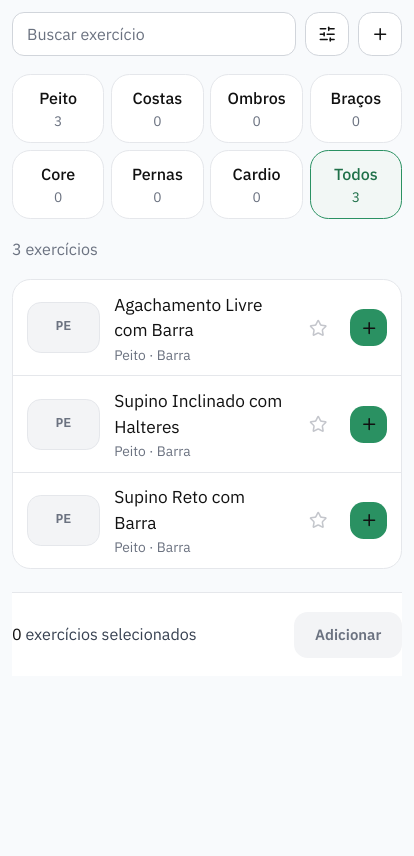
Scenario: multiple selection (building a routine) › un-selects on a second tap of the same row
Expected: the text "Supino Reto com Barra" is shown, [114,485,245,534]
Click the button named "Adicionar Supino Reto com Barra": (369, 521) [350,502,387,539]
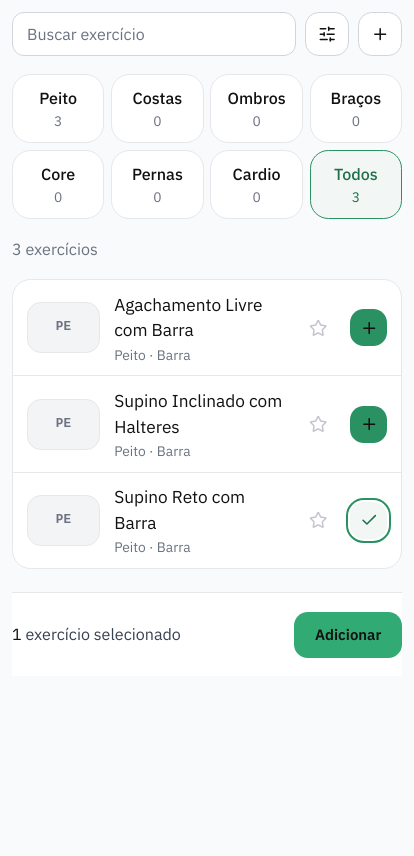
Click the button named "Remover Supino Reto com Barra da seleção": (369, 521) [350,502,387,539]
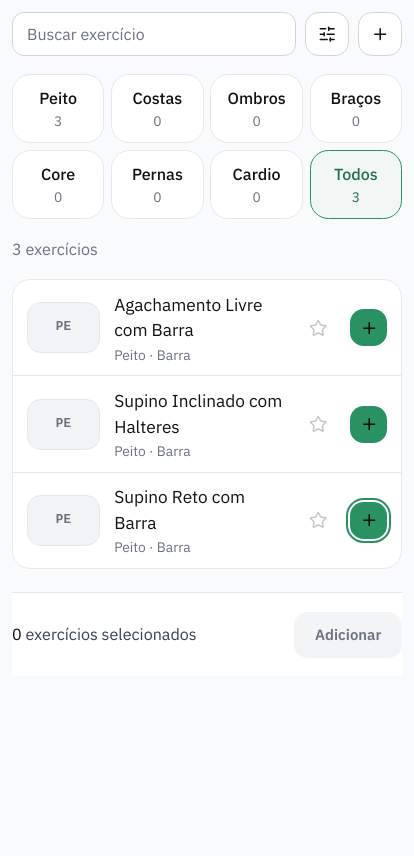
Expected: the button named "Adicionar Supino Reto com Barra" is shown, [350,502,387,539]
Expected: the element showing "0 exercícios selecionados" is shown, [12,623,197,646]
